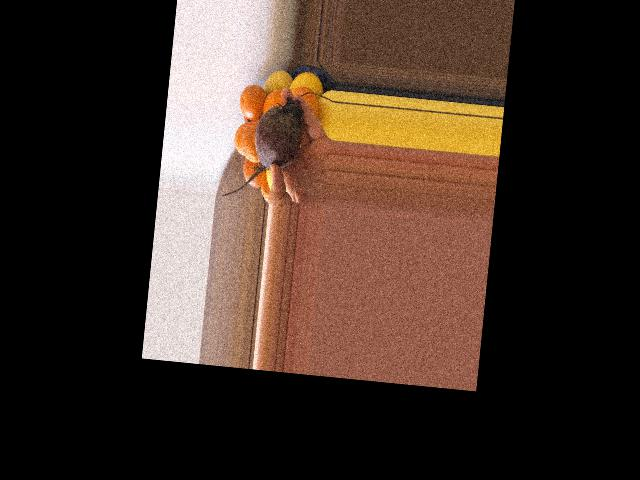beet: (222, 93, 305, 203)
